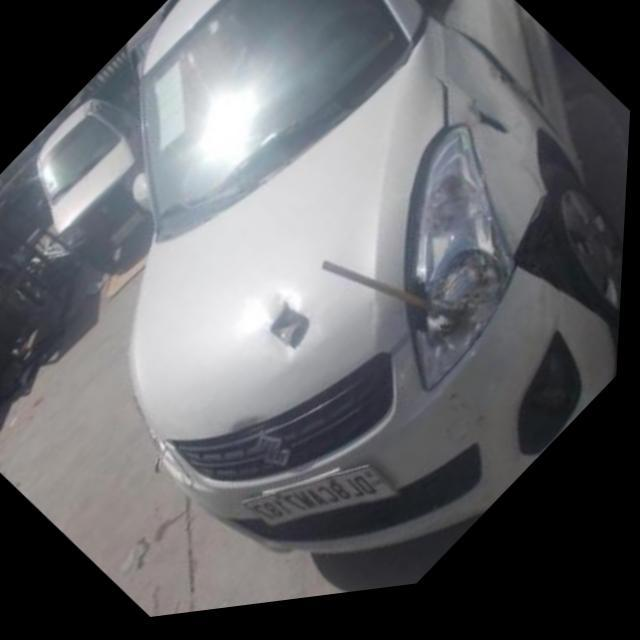crack: (269, 303, 322, 366), (475, 112, 516, 151)
dislocated part: (459, 41, 575, 159), (398, 139, 440, 415)
no part: (520, 212, 613, 335)
